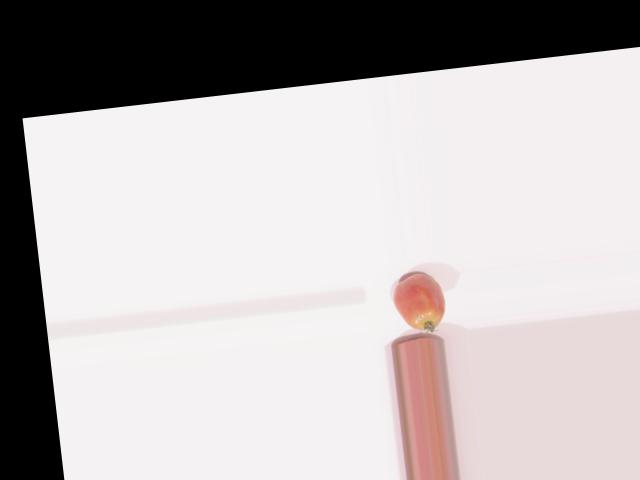tomato: (390, 272, 447, 333)
